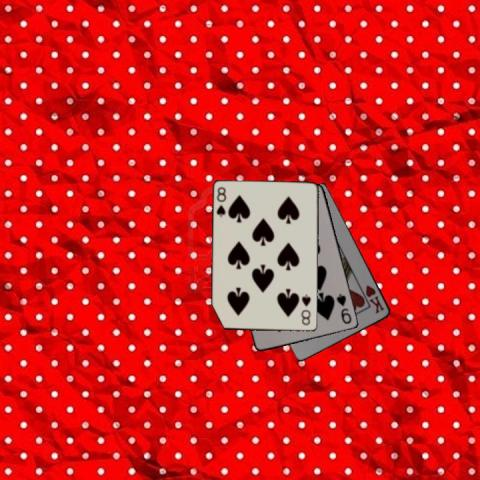8s: (214, 184, 228, 219), (299, 291, 312, 327)
9s: (333, 291, 354, 325)
Kh: (363, 282, 386, 315)
